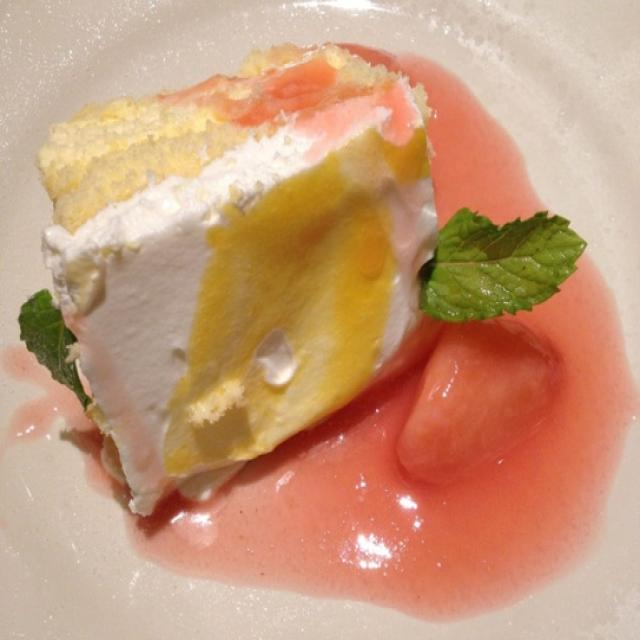蛋糕甜品: (12, 15, 621, 608)
